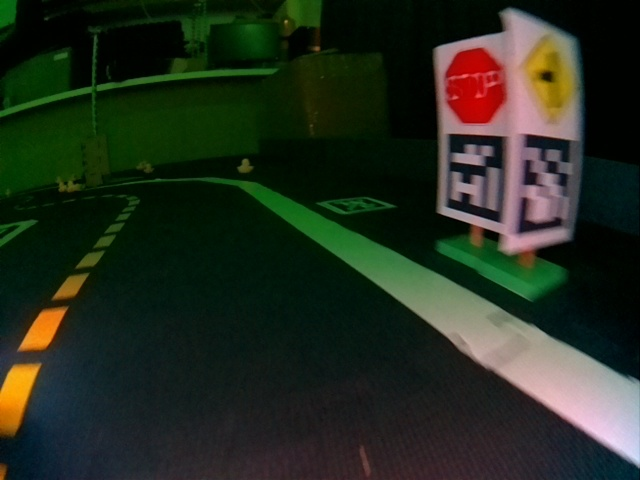Duckie: (238, 159, 252, 172), (66, 181, 76, 191), (144, 164, 153, 173), (58, 182, 67, 191)
Intersection sign: (511, 23, 579, 131)
QR code: (516, 132, 574, 242), (440, 132, 504, 224), (319, 196, 394, 213)
Stop sign: (438, 43, 509, 131)
